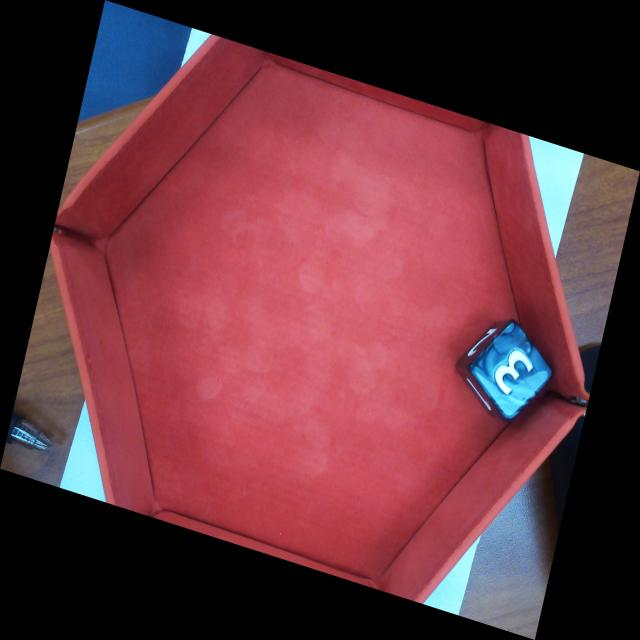dice: (469, 315, 558, 424)
